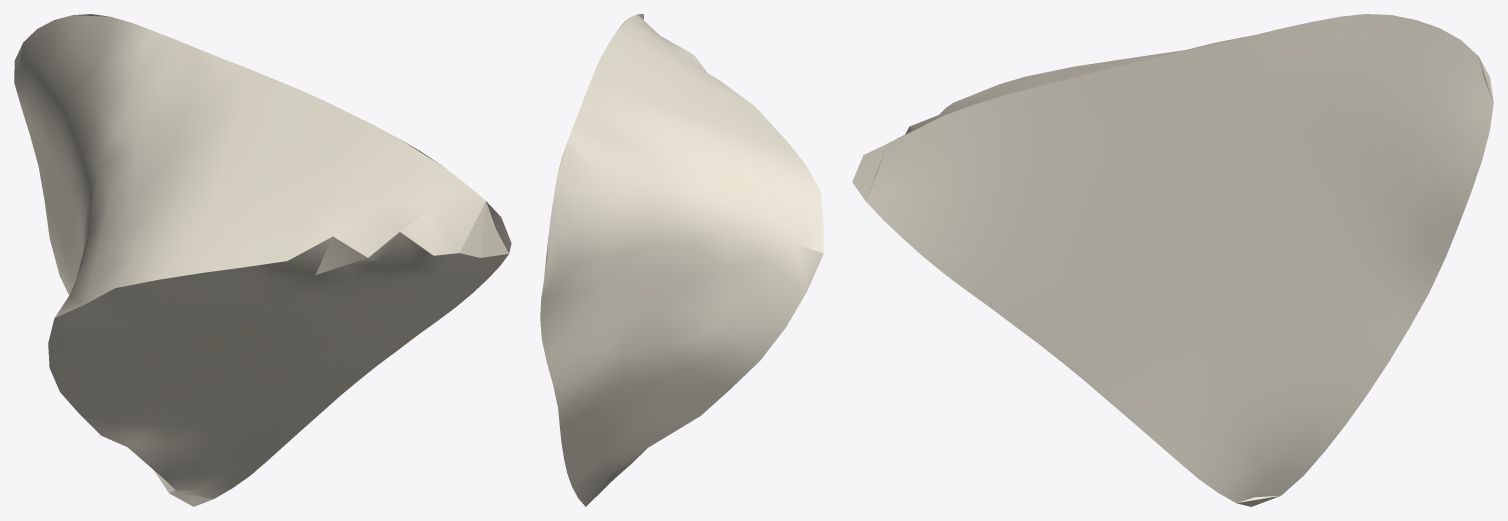
Rendered from fma16328_mm2371m.glb.
3 renders of one model, left to right at view 1: azimuth 30°, elevation 25°; view 2: azimuth 150°, elevation 25°; view 3: azimuth 270°, elevation 25°, orthographic. The views are drawn at different scales.
Parts seen in each view (by area): view 1: FMA16328_MM2371M; view 2: FMA16328_MM2371M; view 3: FMA16328_MM2371M.
Boxes of the visible parts, box(x1,y1,x2,y2) form: FMA16328_MM2371M: box(14, 14, 511, 506); FMA16328_MM2371M: box(540, 14, 823, 506); FMA16328_MM2371M: box(852, 14, 1493, 506).
Size of the model in its own units: 0.00556 by 0.00724 by 0.00877.
